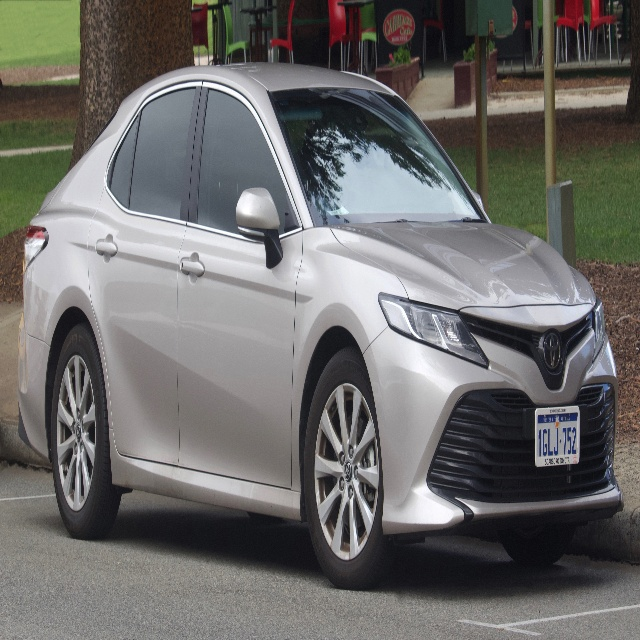Car: (17, 61, 624, 591)
